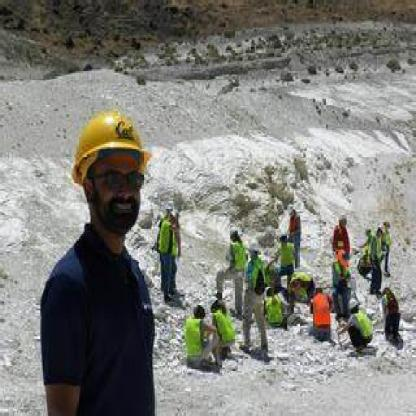person: (35, 80, 157, 414)
